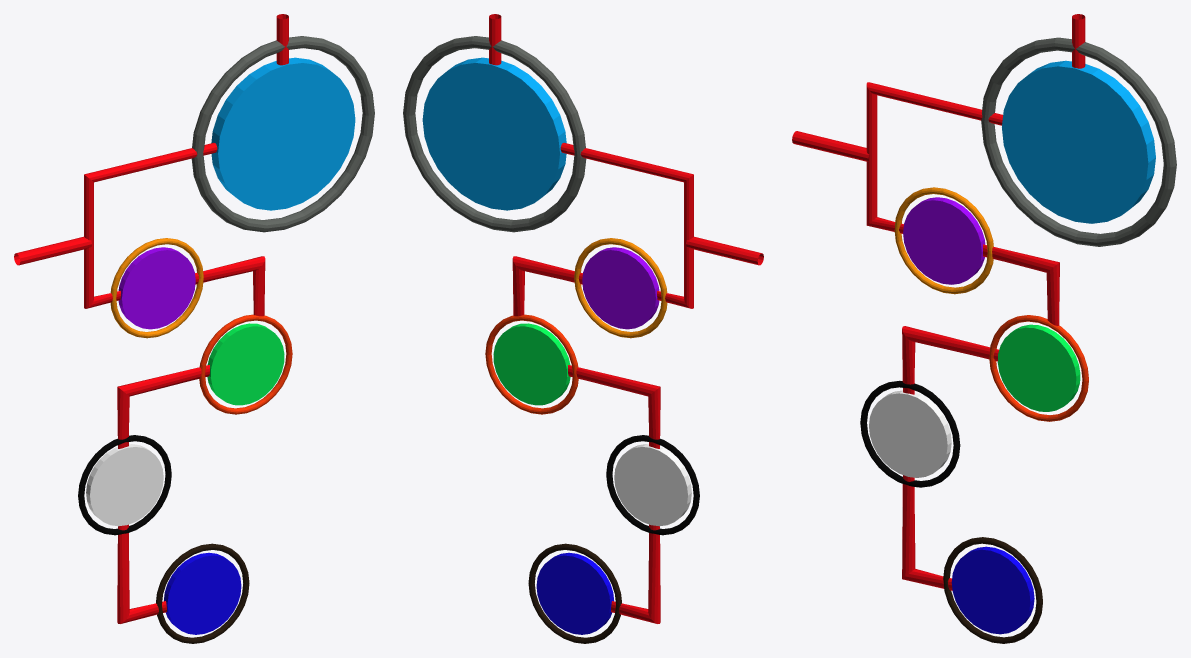
File: Ui_Vita.FBX
3 renders of one model, left to right at view 1: azimuth 30°, elevation 25°; view 2: azimuth 150°, elevation 25°; view 3: azimuth 330°, elevation 25°, orthographic. The views are drawn at different scales.
Visible parts, largest first — view 1: Cerchio Vita, Struttura, Object001, PowerUp_01, PowerUp_04, PowerUp_03, PowerUp_02, Anello_04, Anello_02, Anello_01, Anello_03; view 2: Cerchio Vita, Struttura, Object001, PowerUp_01, PowerUp_04, PowerUp_03, PowerUp_02, Anello_04, Anello_02, Anello_01, Anello_03; view 3: Cerchio Vita, Struttura, Object001, PowerUp_04, PowerUp_02, PowerUp_03, PowerUp_01, Anello_04, Anello_01, Anello_03, Anello_02.
Boxes of the visible parts, left/top/right/bottom form: Cerchio Vita: left=211, top=57, right=355, bottom=210; Struttura: left=14, top=14, right=288, bottom=623; Object001: left=191, top=36, right=374, bottom=232; PowerUp_01: left=118, top=247, right=195, bottom=329; PowerUp_04: left=164, top=552, right=241, bottom=634; PowerUp_03: left=86, top=444, right=163, bottom=526; PowerUp_02: left=207, top=323, right=284, bottom=405; Anello_04: left=156, top=543, right=249, bottom=643; Anello_02: left=199, top=314, right=292, bottom=414; Anello_01: left=110, top=238, right=203, bottom=338; Anello_03: left=78, top=435, right=171, bottom=535; Cerchio Vita: left=422, top=57, right=566, bottom=210; Struttura: left=489, top=14, right=763, bottom=623; Object001: left=403, top=36, right=586, bottom=232; PowerUp_01: left=582, top=247, right=659, bottom=329; PowerUp_04: left=536, top=552, right=613, bottom=634; PowerUp_03: left=614, top=444, right=691, bottom=526; PowerUp_02: left=493, top=323, right=570, bottom=405; Anello_04: left=528, top=543, right=621, bottom=643; Anello_02: left=485, top=314, right=578, bottom=414; Anello_01: left=574, top=238, right=667, bottom=338; Anello_03: left=606, top=435, right=699, bottom=535; Cerchio Vita: left=1002, top=60, right=1155, bottom=223; Struttura: left=792, top=14, right=1085, bottom=590; Object001: left=981, top=37, right=1176, bottom=246; PowerUp_04: left=951, top=546, right=1034, bottom=634; PowerUp_02: left=997, top=324, right=1080, bottom=411; PowerUp_03: left=869, top=390, right=951, bottom=477; PowerUp_01: left=903, top=197, right=985, bottom=284; Anello_04: left=943, top=537, right=1042, bottom=643; Anello_01: left=894, top=187, right=993, bottom=294; Anello_03: left=860, top=380, right=960, bottom=487; Anello_02: left=989, top=315, right=1088, bottom=421.
Size of the model in its own units: 125 by 203 by 4.37.
